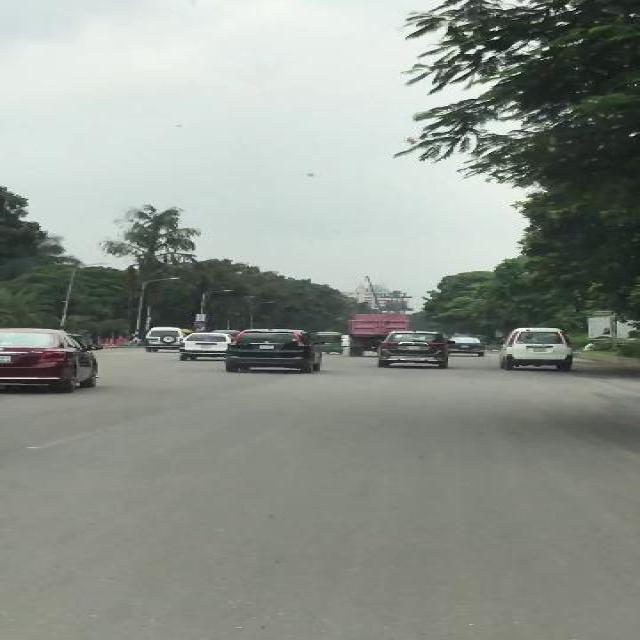car: (0, 325, 105, 396), (178, 332, 228, 361), (450, 337, 484, 358)
minivan: (497, 324, 573, 372)
suv: (224, 328, 324, 372), (376, 328, 456, 369), (142, 326, 182, 352)
three wheelers -CNG-: (318, 331, 343, 354)
truck: (346, 313, 412, 335)
